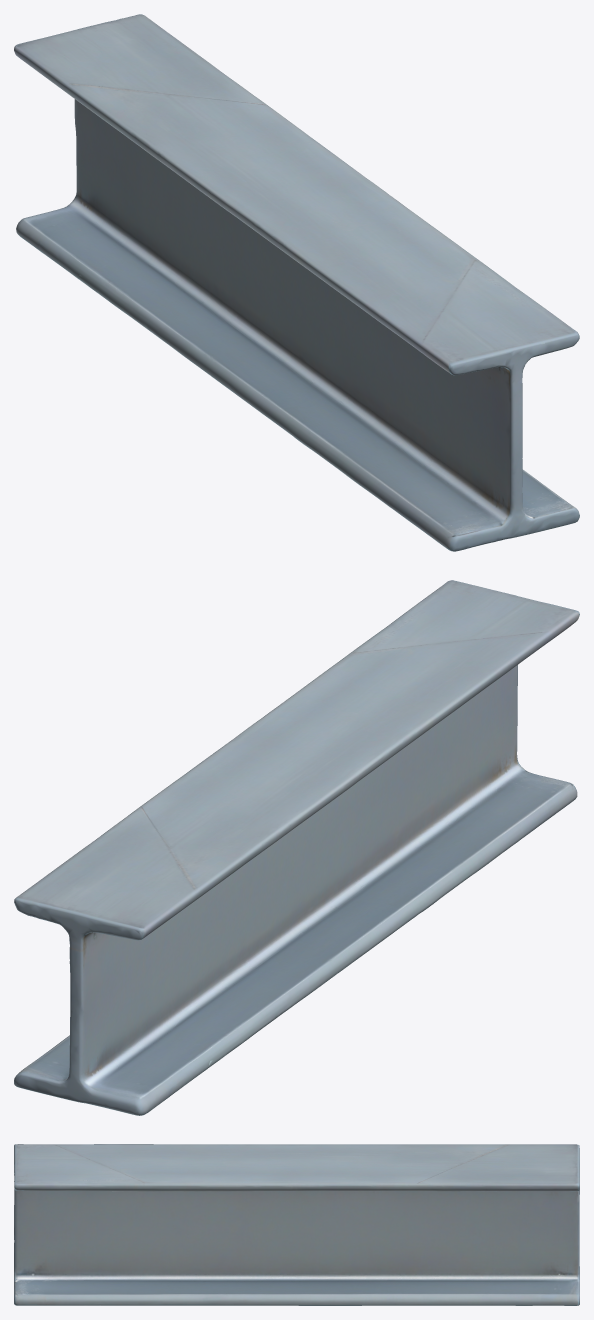
Rendered from model_019a174c-c43f-78ea-9fd2-2b8579746ac2_1761328644_68fbbe0492632.glb.
3 renders of one model, top to bottom at view 1: azimuth 30°, elevation 25°; view 2: azimuth 150°, elevation 25°; view 3: azimuth 270°, elevation 25°, orthographic. The views are drawn at different scales.
Bounding box in the file's own units: 0.3475 × 0.4816 × 2.01.
1 material, 1 textured.
